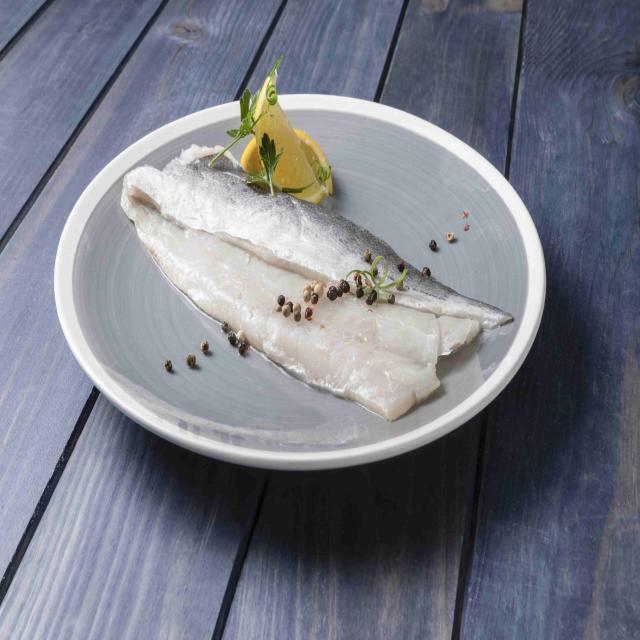pescado: (115, 137, 514, 440)
